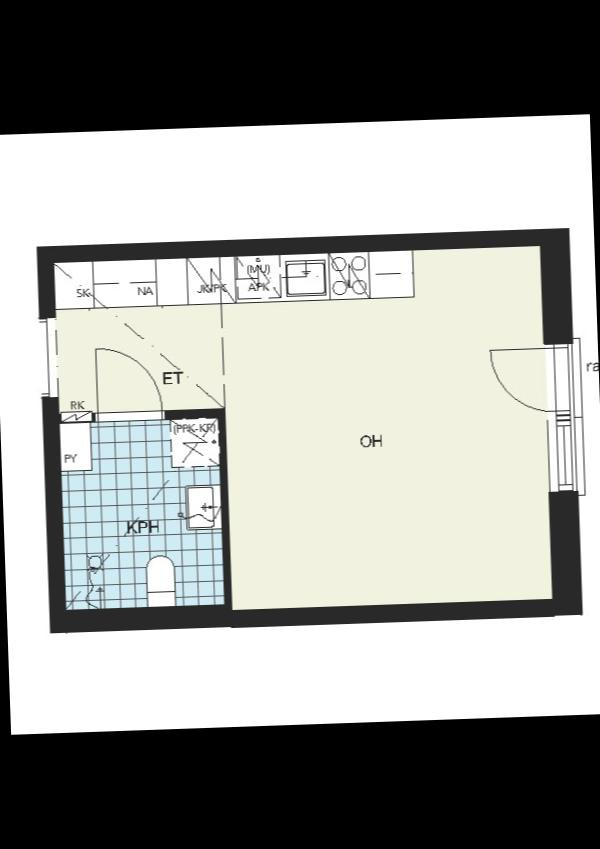door: (487, 340, 580, 416), (85, 343, 168, 425)
window: (541, 408, 585, 500), (31, 310, 62, 404)
